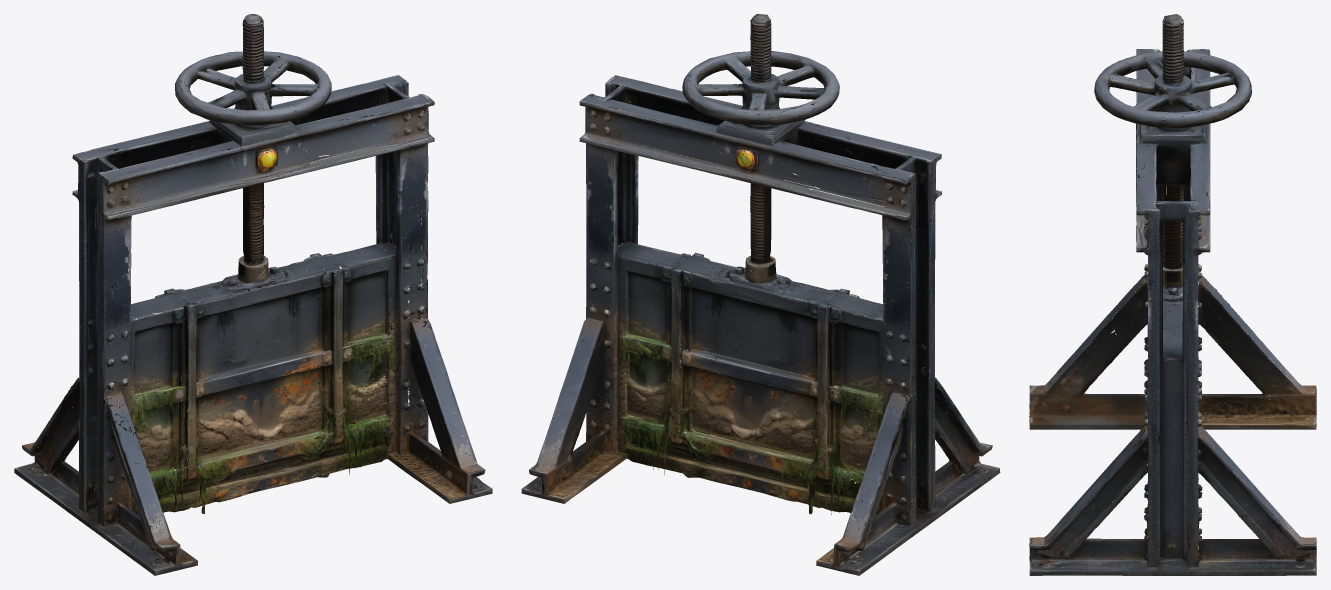
File: tallow_irrigation_sluice_gate.glb
3 renders of one model, left to right at view 1: azimuth 30°, elevation 25°; view 2: azimuth 150°, elevation 25°; view 3: azimuth 270°, elevation 25°, orthographic.
Parts seen in each view (by area): view 1: node_0; view 2: node_0; view 3: node_0.
Part boxes in pixels (x1,y1,x2,y2): node_0: (14, 14, 492, 575); node_0: (521, 14, 1000, 575); node_0: (1029, 14, 1316, 575).
Bounding box in the file's own units: 0.6701 × 0.8934 × 0.485.
Materials: 1 (1 with a texture image).
